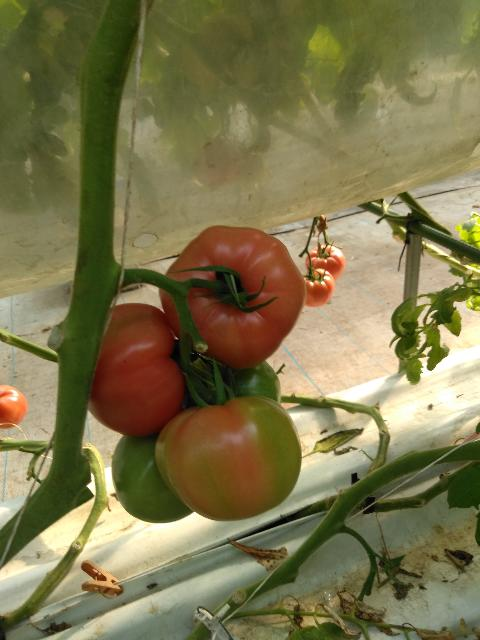b_fully_ripened: (87, 303, 184, 437), (0, 385, 28, 429)
b_green: (112, 435, 194, 524), (182, 353, 281, 409)
b_half_ripened: (159, 225, 307, 370), (154, 396, 302, 522), (304, 244, 347, 280), (303, 267, 335, 308)
